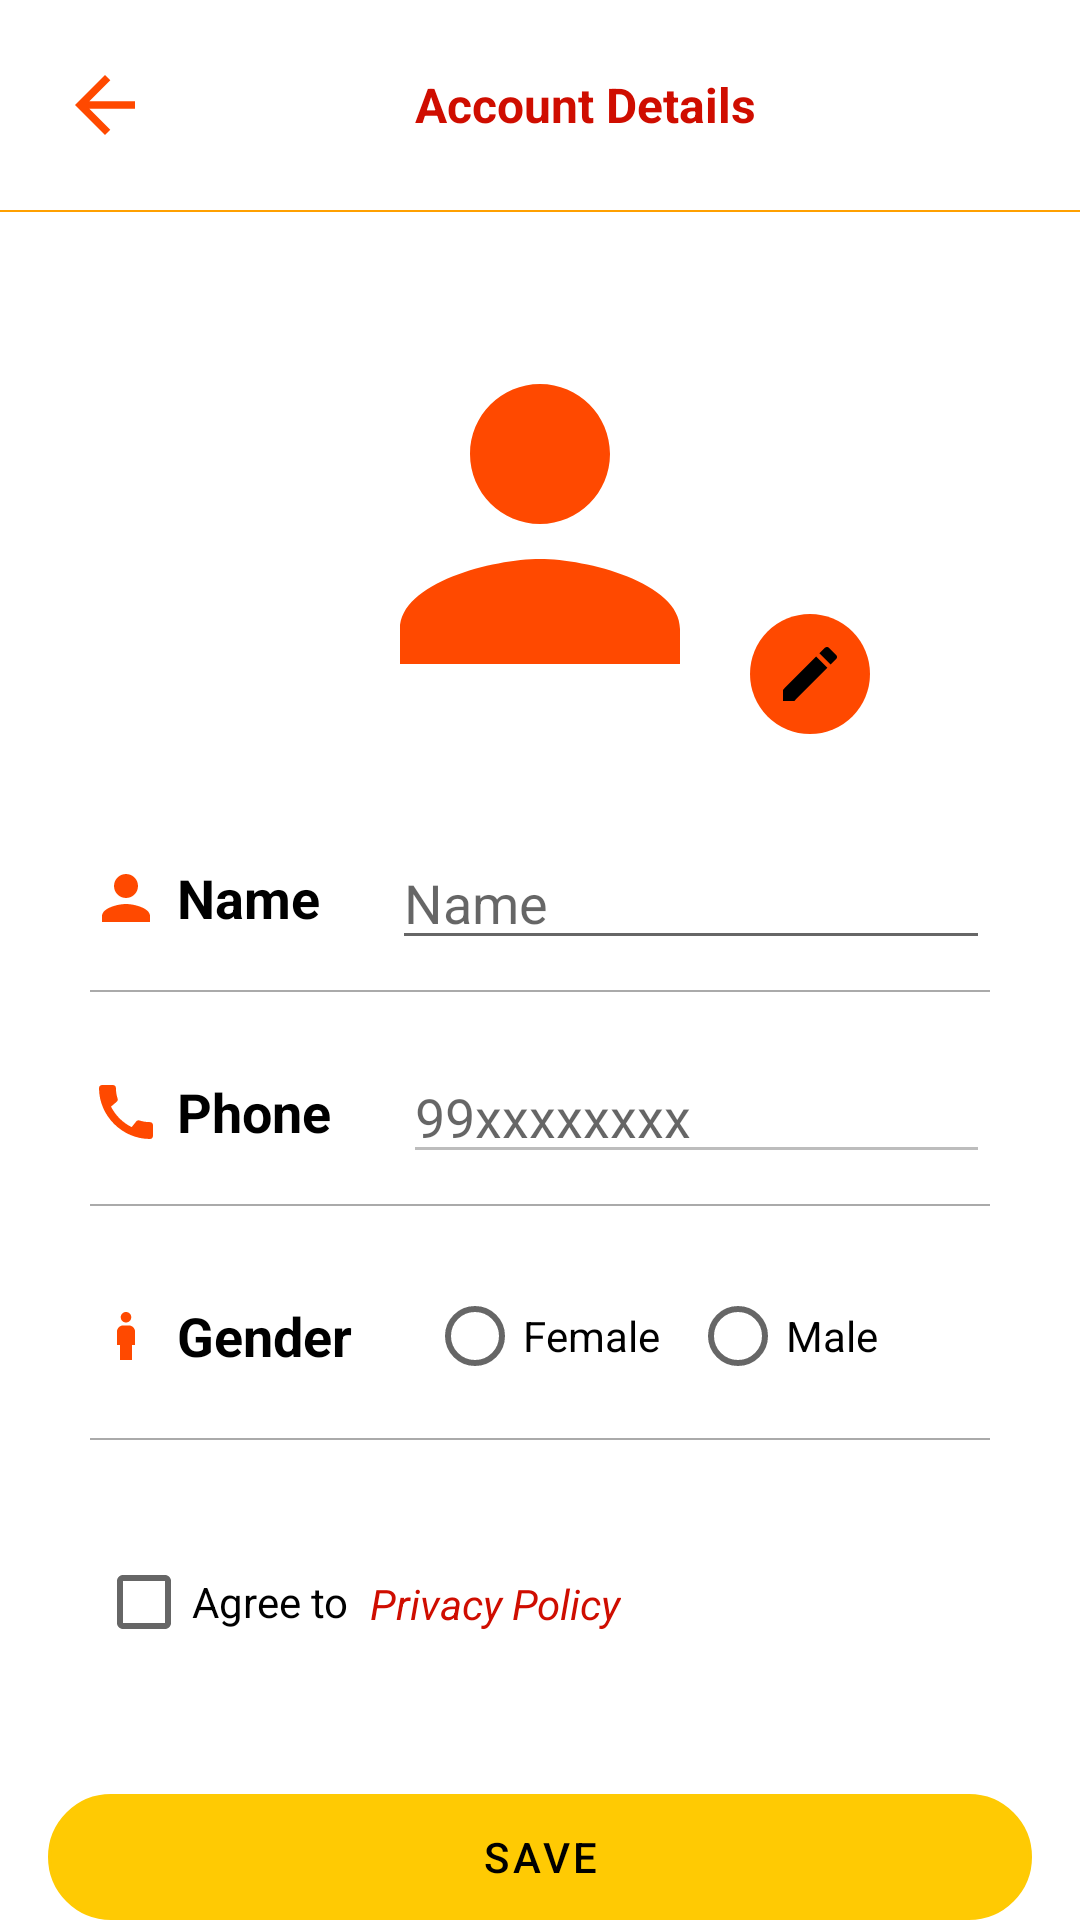

Icon click points for this 1080w x 1920h phone screenshot, format (x=x, y=y):
arrow back: (x=105, y=105)
edit: (x=810, y=674)
person: (x=540, y=524), (x=126, y=898)
